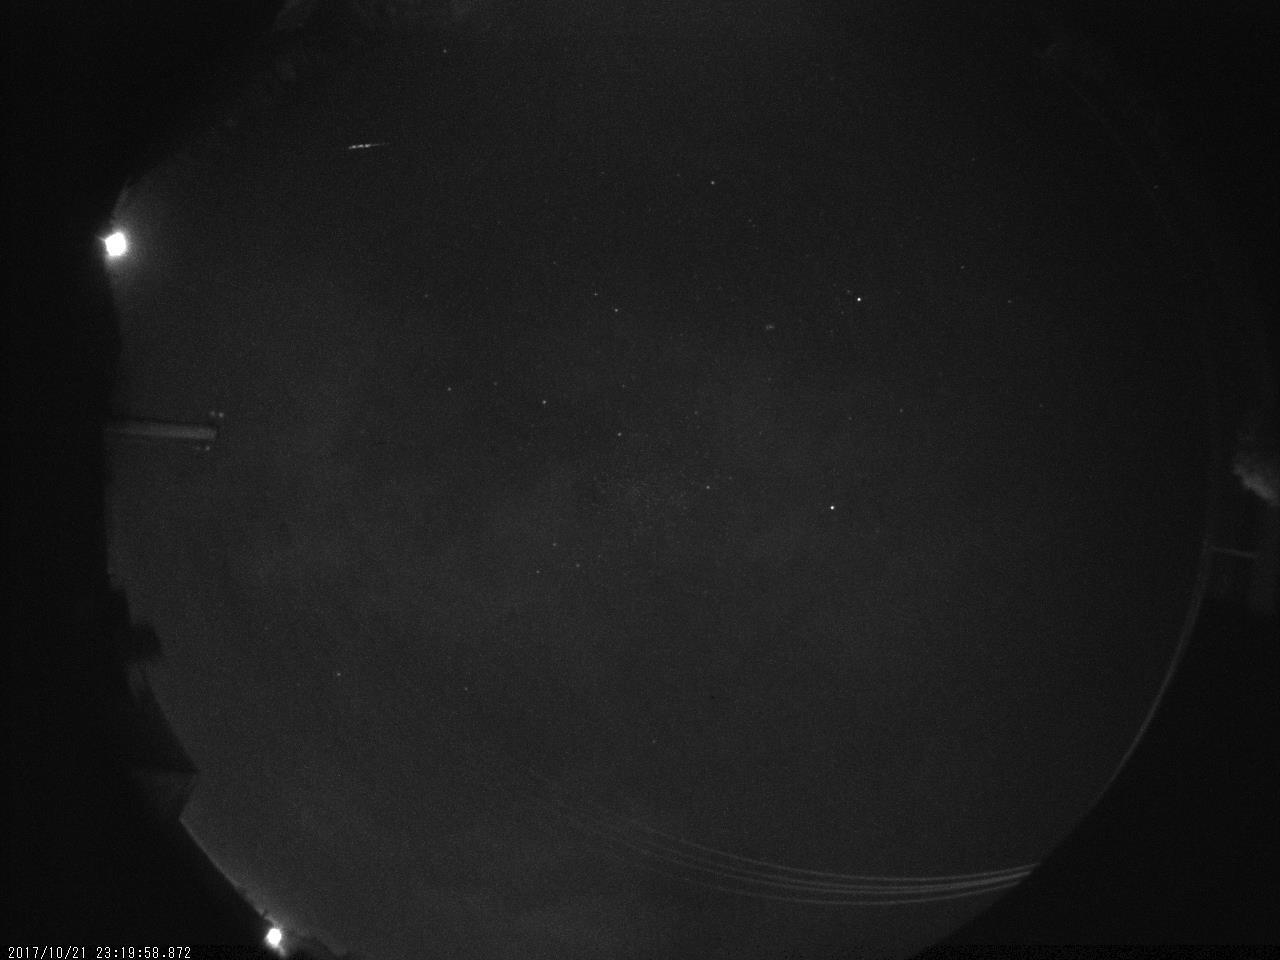Meteor: (339, 128, 402, 156)
